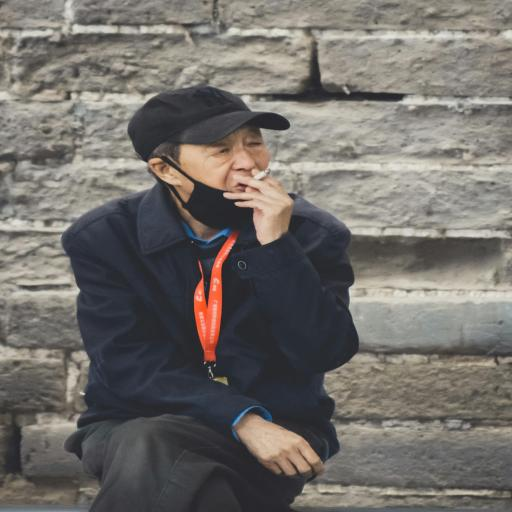terdeteksi merokok: (206, 122, 301, 228)
